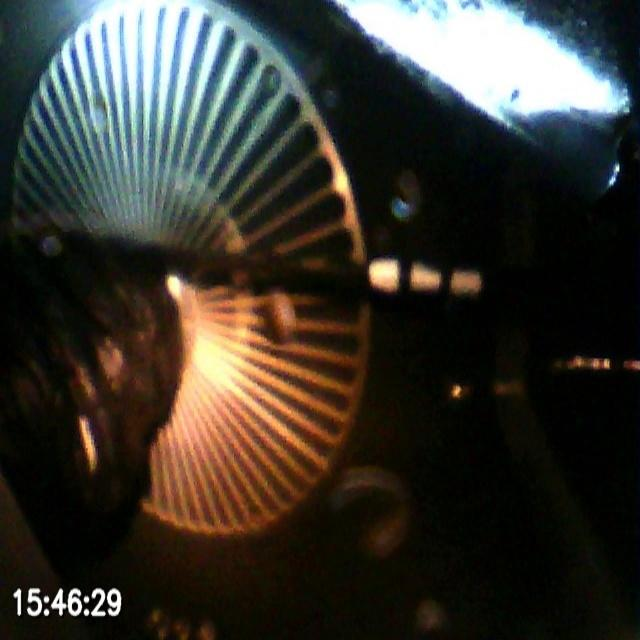white-dots: (367, 256, 482, 300)
